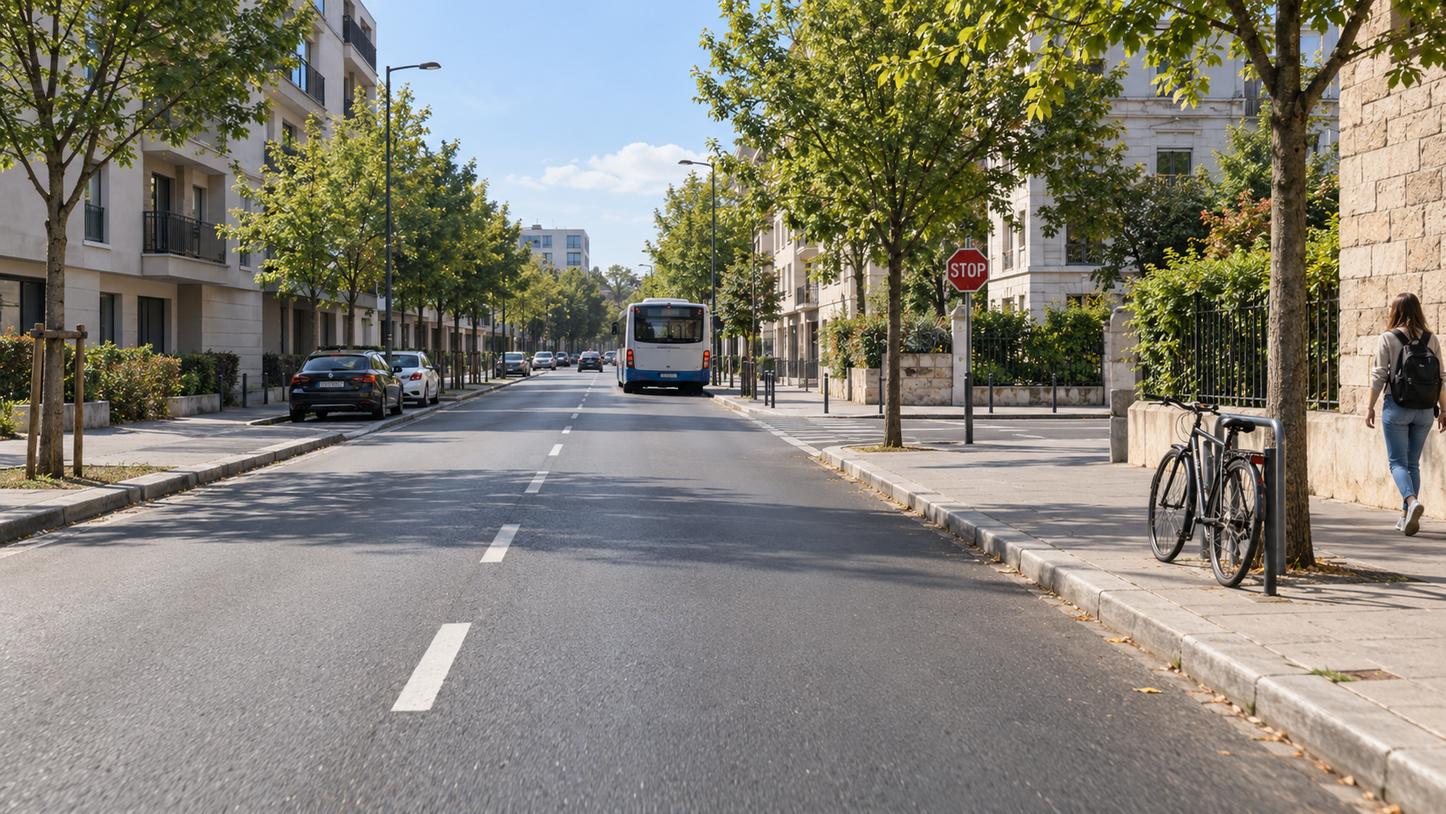bicycle: (1142, 407, 1278, 588)
bus: (619, 298, 716, 394)
car: (290, 347, 405, 421), (396, 343, 441, 385), (568, 343, 598, 375), (530, 343, 559, 375), (505, 340, 533, 372), (480, 342, 503, 371)
person: (1363, 294, 1443, 527)
stop_sign: (942, 248, 992, 296)
